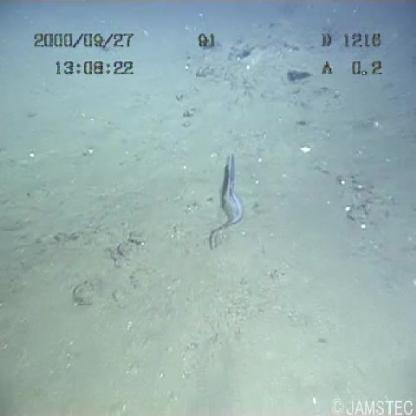Bio: (200, 143, 252, 259)
